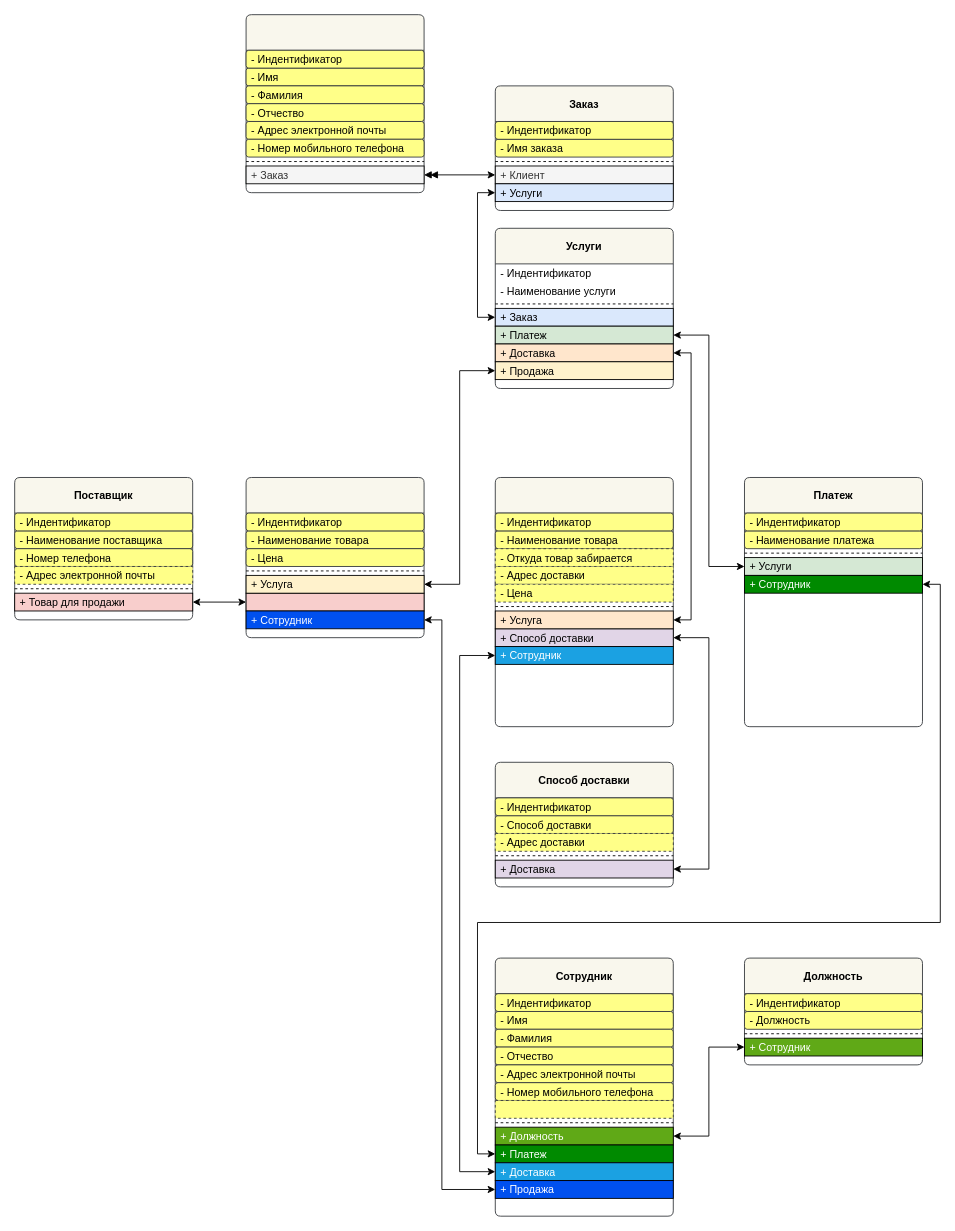
Image size: 955x1231. Some labels were removed from this diagram. The shapes that lost their labels are listed below. From the top down, each one's box as (x1, y1, x2, y2) in pixels, then its label:
(245, 14, 424, 193): Клиент
(245, 477, 424, 638): Продажа
(245, 592, 424, 611): + Поставщик
(494, 477, 673, 727): Доставка
(494, 1100, 673, 1118): - Стаж
